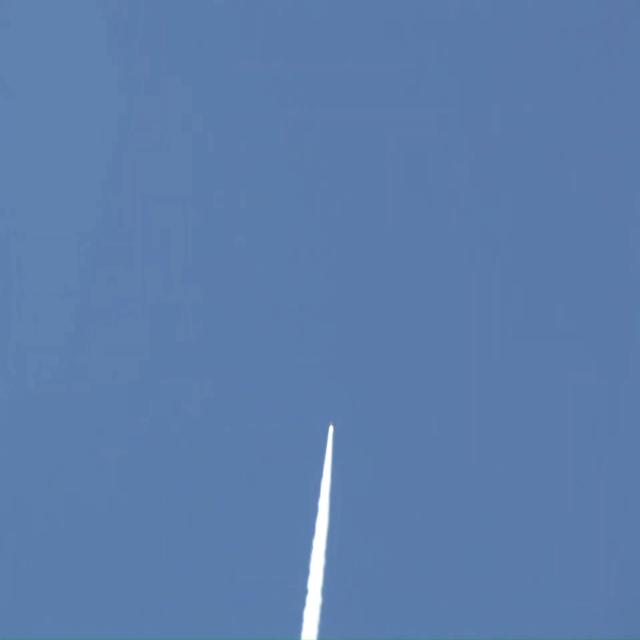Rocket: (329, 420, 334, 428)
